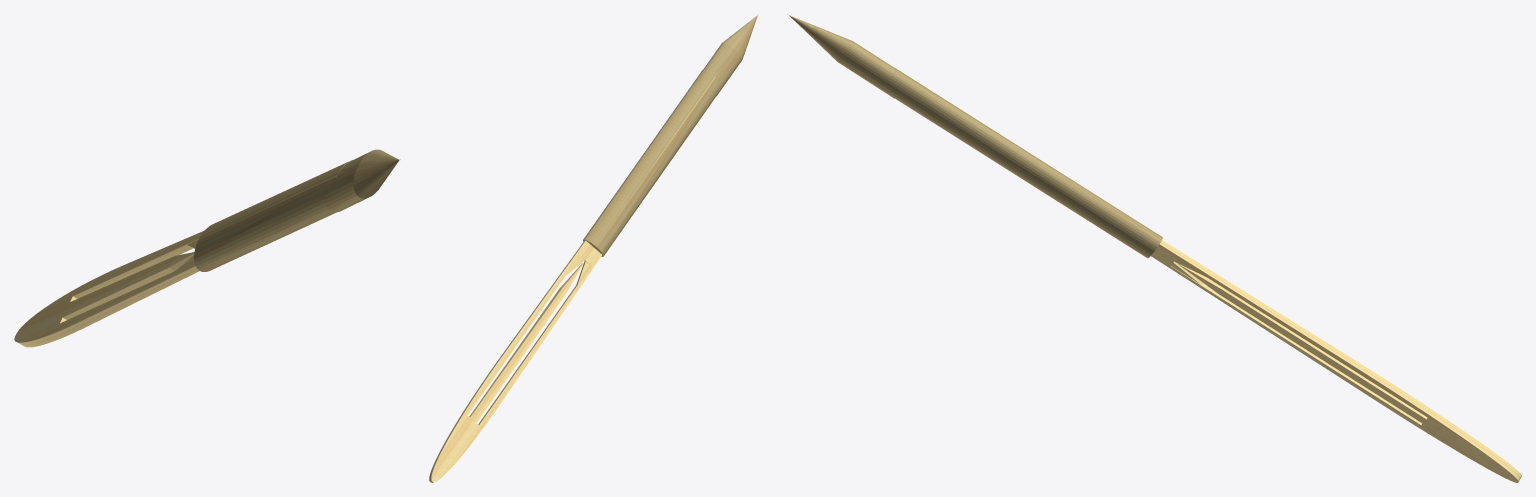
Rendered from huen.glb.
3 renders of one model, left to right at view 1: azimuth 30°, elevation 25°; view 2: azimuth 150°, elevation 25°; view 3: azimuth 270°, elevation 25°, orthographic. The views are drawn at different scales.
Parts seen in each view (by area): view 1: ทรงกระบอก.001, ลูกบาศก์.003; view 2: ทรงกระบอก.001, ลูกบาศก์.003; view 3: ทรงกระบอก.001, ลูกบาศก์.003.
Part boxes in pixels (x1,y1,x2,y2): ทรงกระบอก.001: (194, 149, 400, 271); ลูกบาศก์.003: (14, 231, 203, 347); ทรงกระบอก.001: (583, 14, 758, 256); ลูกบาศก์.003: (429, 240, 601, 482); ทรงกระบอก.001: (787, 14, 1162, 258); ลูกบาศก์.003: (1151, 240, 1521, 482).
Bounding box in the file's own units: 5.17 × 19.31 × 30.53.
2 materials, 2 textured.
